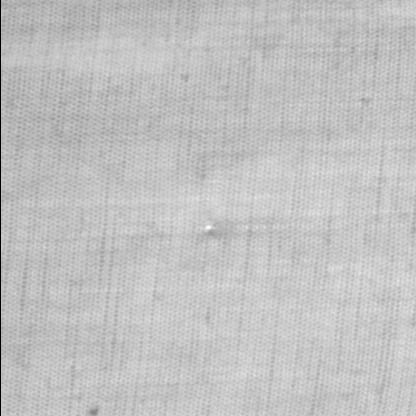hole: (199, 220, 224, 240)
